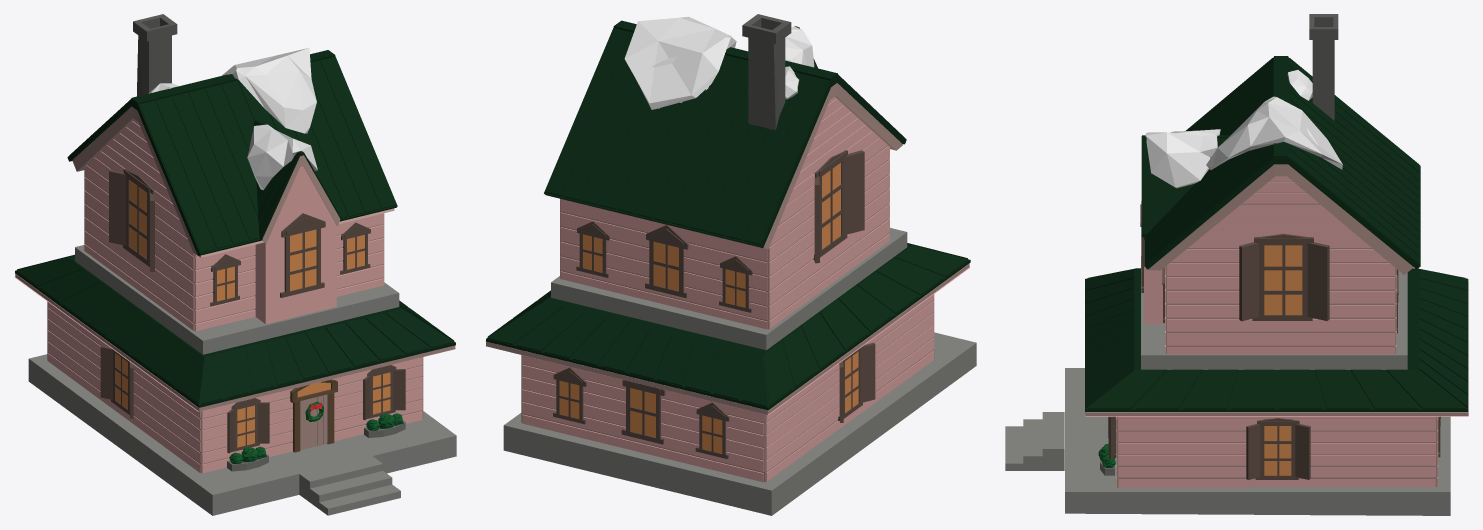
The model's file is FH_House2.fbx.
3 renders of one model, left to right at view 1: azimuth 30°, elevation 25°; view 2: azimuth 150°, elevation 25°; view 3: azimuth 270°, elevation 25°, orthographic. The views are drawn at different scales.
Visible parts, largest first — view 1: Cube.099; view 2: Cube.099; view 3: Cube.099.
Boxes of the visible parts, bbox=[...] form: Cube.099: bbox=[14, 14, 456, 515]; Cube.099: bbox=[485, 14, 976, 515]; Cube.099: bbox=[1005, 14, 1468, 515].
Size of the model in its own units: 3729 by 5355 by 5576.
